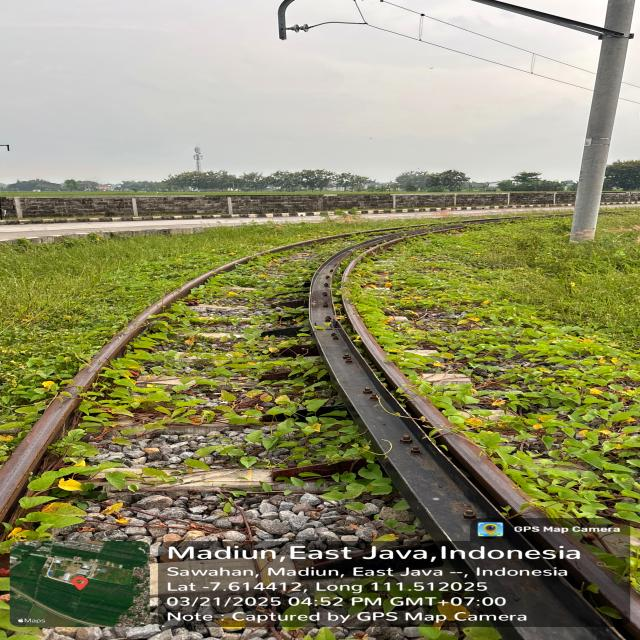rail-detection: (0, 233, 359, 520), (309, 238, 532, 571), (343, 291, 529, 510), (309, 218, 500, 333), (136, 233, 360, 329), (406, 392, 527, 510), (481, 576, 619, 640), (342, 246, 382, 282)
